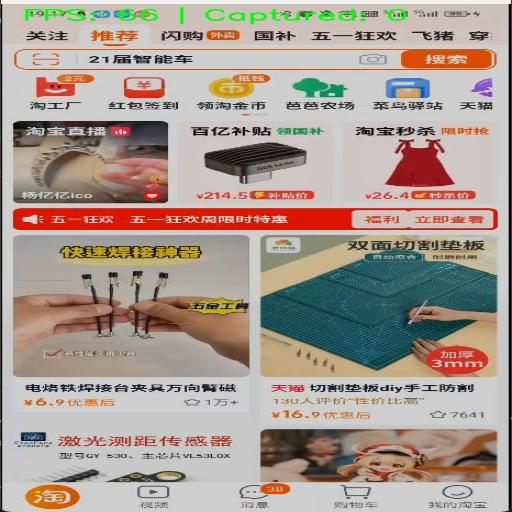butten: (261, 235, 496, 377), (345, 118, 496, 207), (344, 119, 496, 207), (190, 72, 271, 118), (23, 68, 100, 111), (420, 482, 507, 512), (324, 482, 394, 512), (29, 75, 81, 110), (29, 77, 81, 110), (36, 77, 74, 97)
input: (14, 49, 246, 66), (251, 50, 400, 66)
